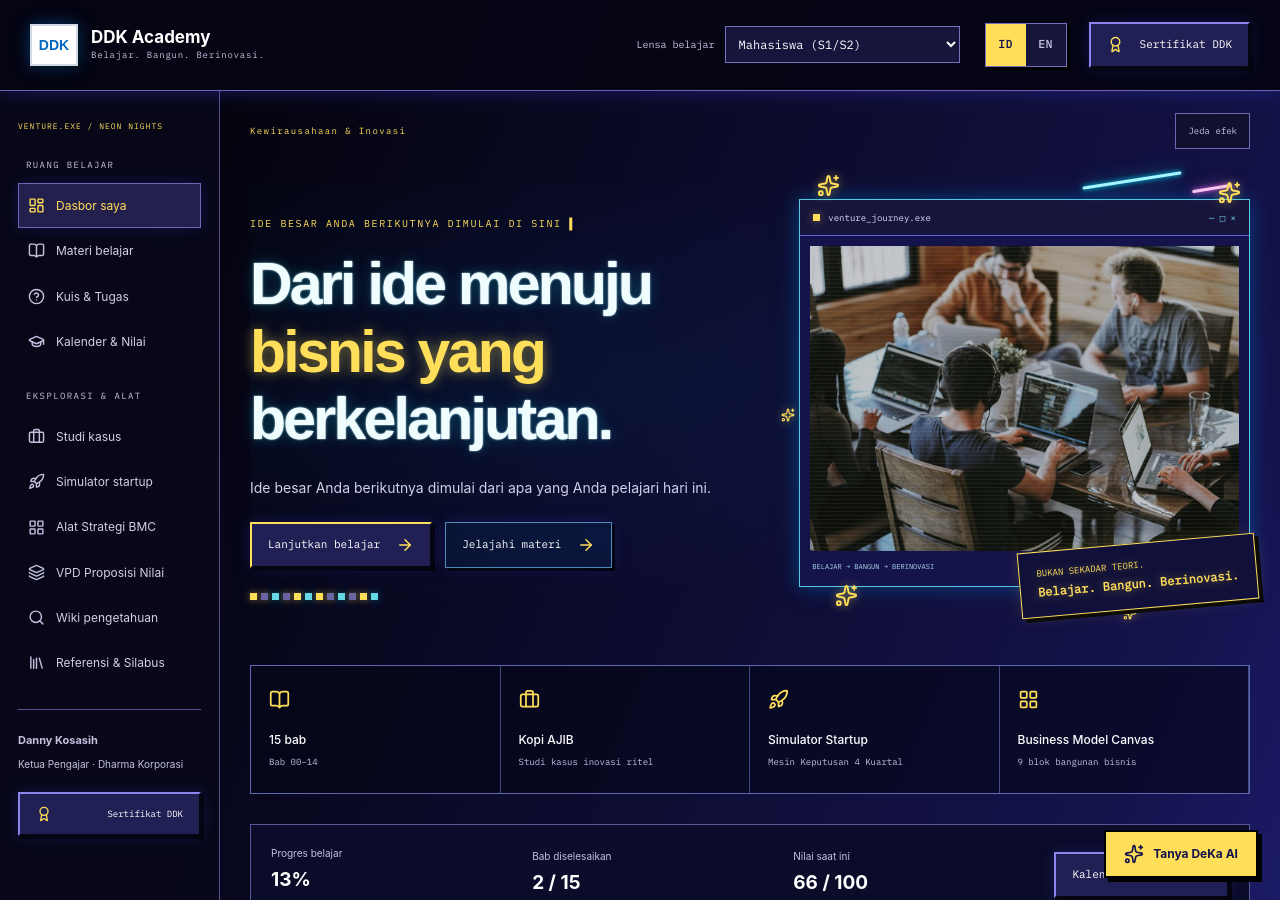
AI assistant popup › shows a friendly message when the server has no key configured
Click the button with aria-label "Buka asisten AI": (1181, 854) [1104,830,1258,878]
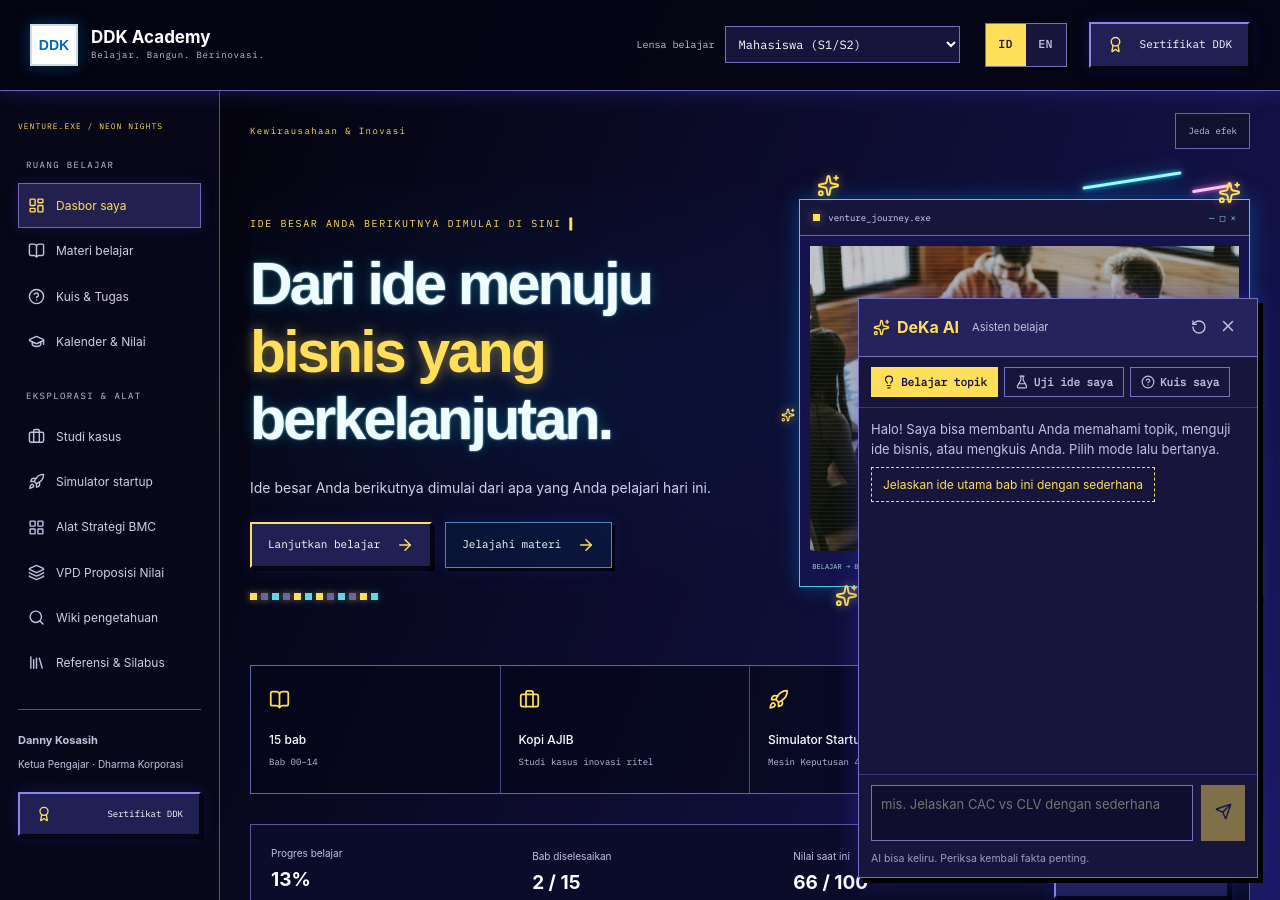
Click the button "Jelaskan ide utama bab ini dengan sederhana": (1013, 484) [871,467,1155,502]
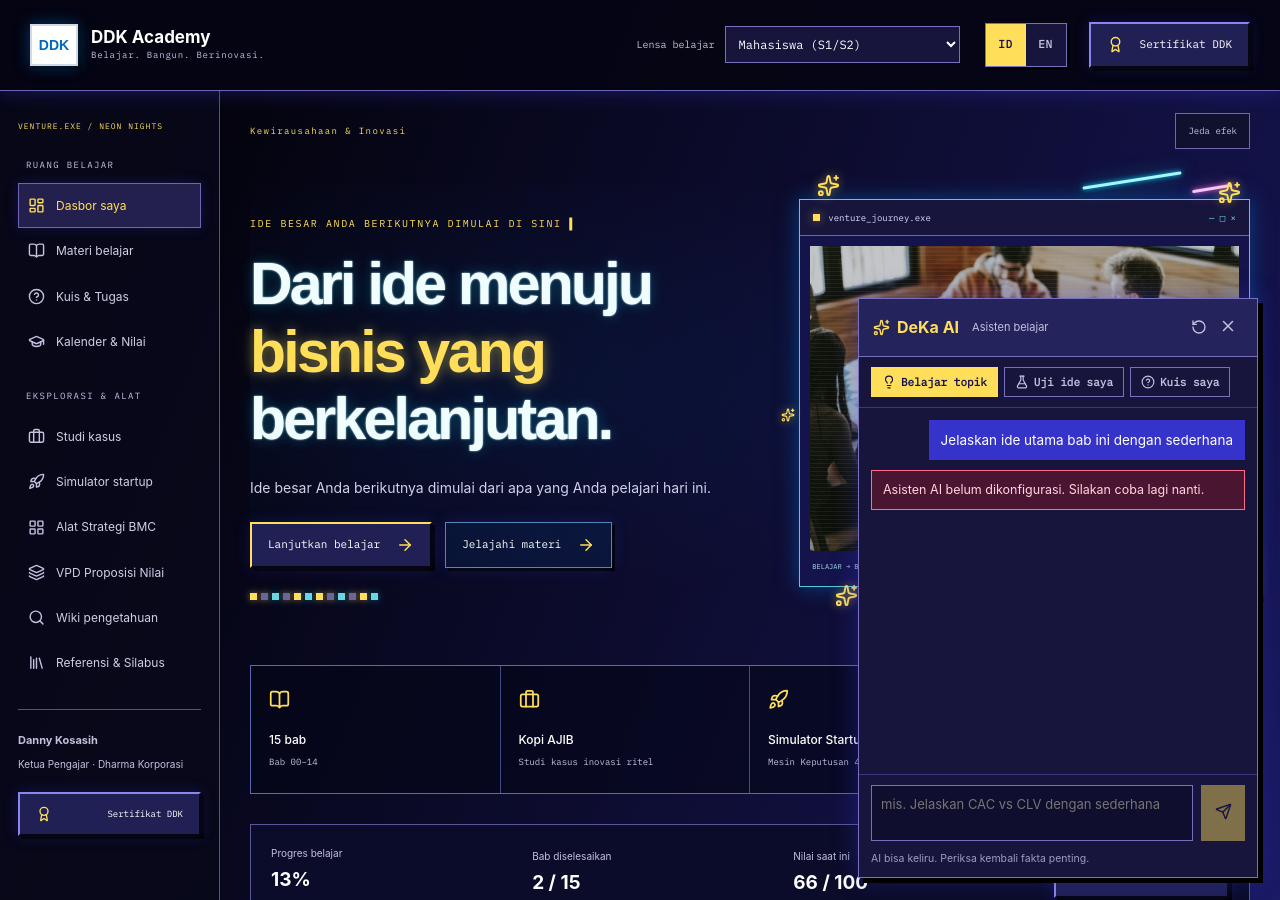
Expected: the message shows "belum dikonfigurasi", [883,482,1204,497]
